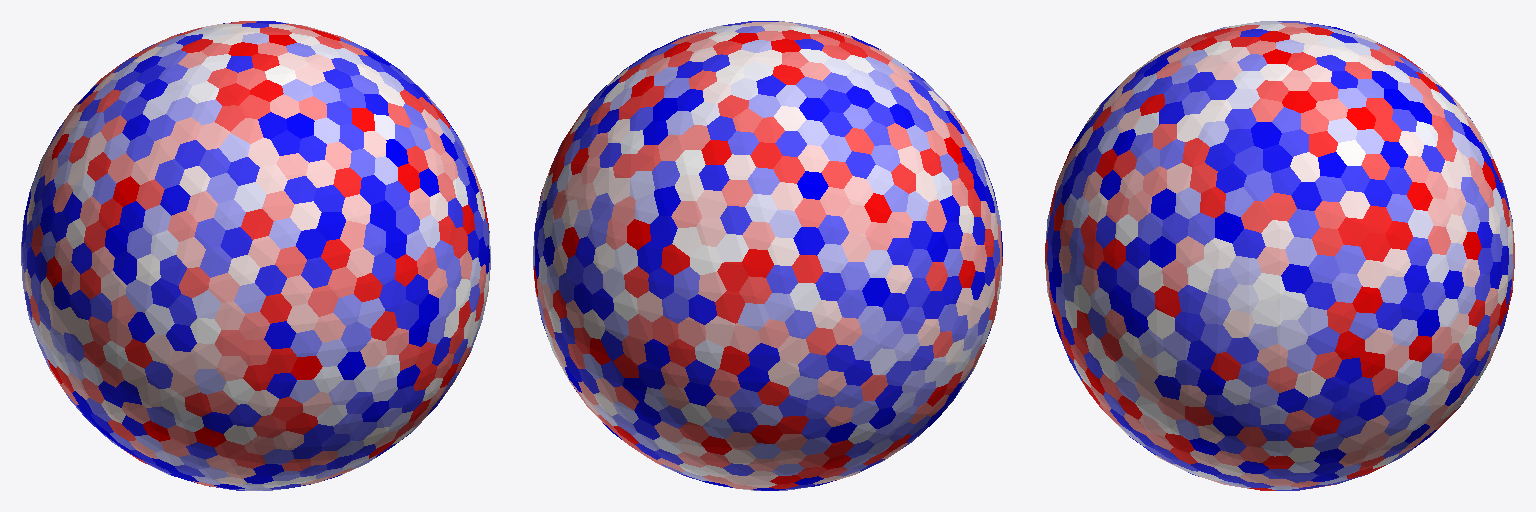
3 renders of one model, left to right at view 1: azimuth 30°, elevation 25°; view 2: azimuth 150°, elevation 25°; view 3: azimuth 270°, elevation 25°, orthographic.
Parts seen in each view (by area): view 1: 3D_Object; view 2: 3D_Object; view 3: 3D_Object.
Part boxes in pixels (left/top/right/bottom): 3D_Object: left=21, top=21, right=490, bottom=490; 3D_Object: left=533, top=21, right=1002, bottom=490; 3D_Object: left=1045, top=21, right=1514, bottom=490.
Bounding box in the file's own units: 2 × 2 × 2.
1 materials, 1 textured.